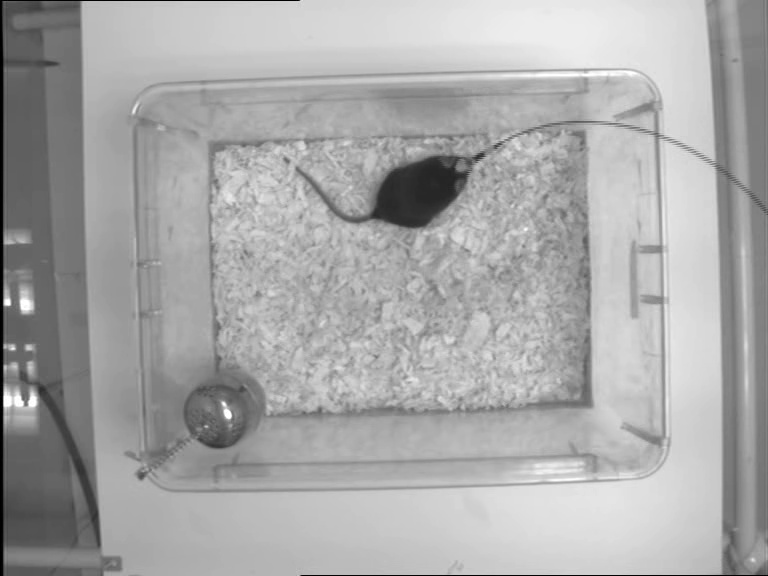mice: (277, 151, 477, 232)
